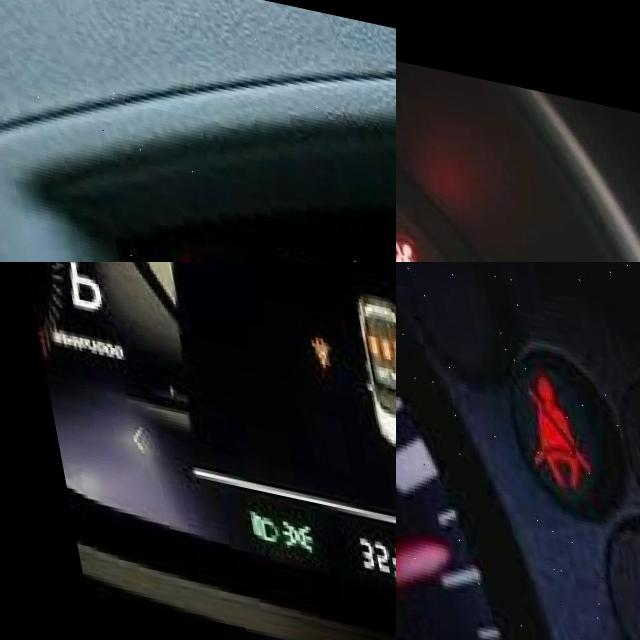Seat Belt: (508, 361, 584, 479), (158, 243, 214, 262), (300, 323, 323, 356), (396, 220, 414, 262)
